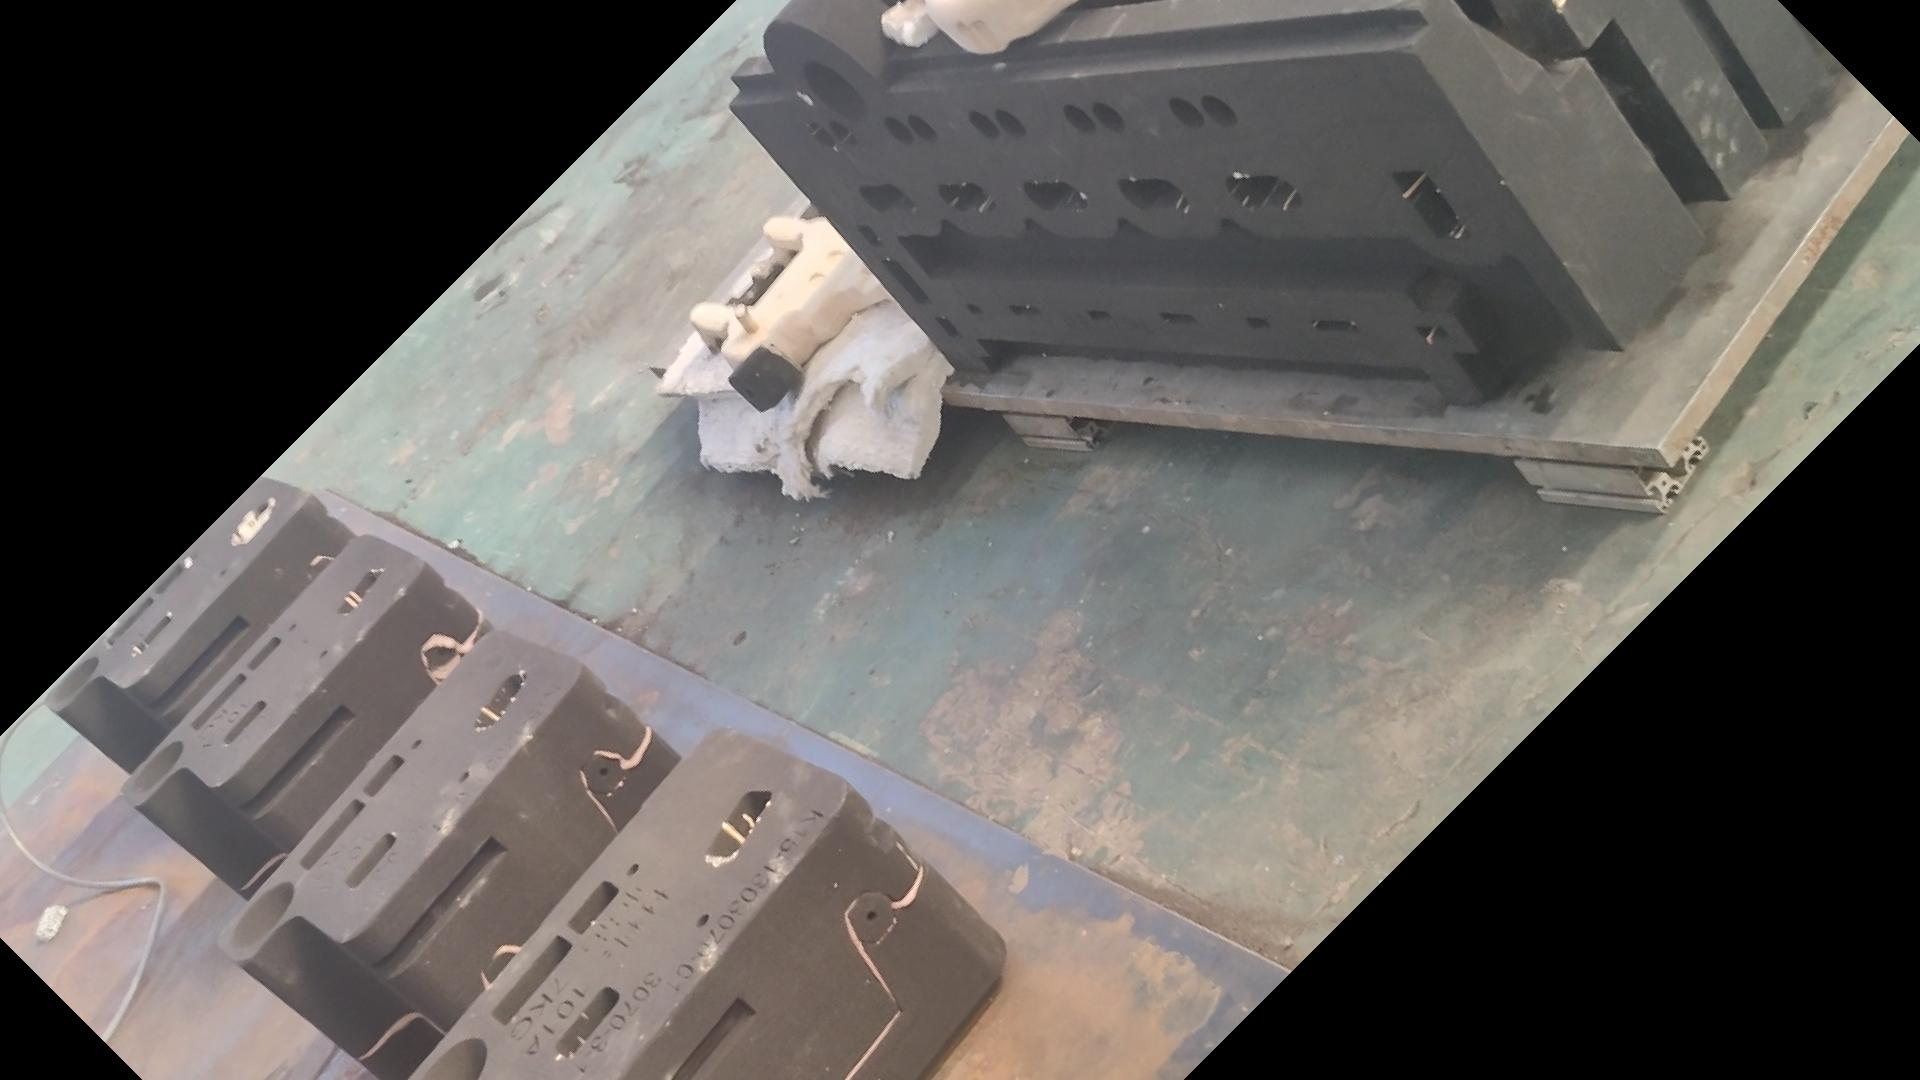pouring hole: (795, 58, 872, 127), (228, 882, 295, 951), (128, 740, 187, 791), (414, 1036, 487, 1077), (45, 653, 99, 707)
